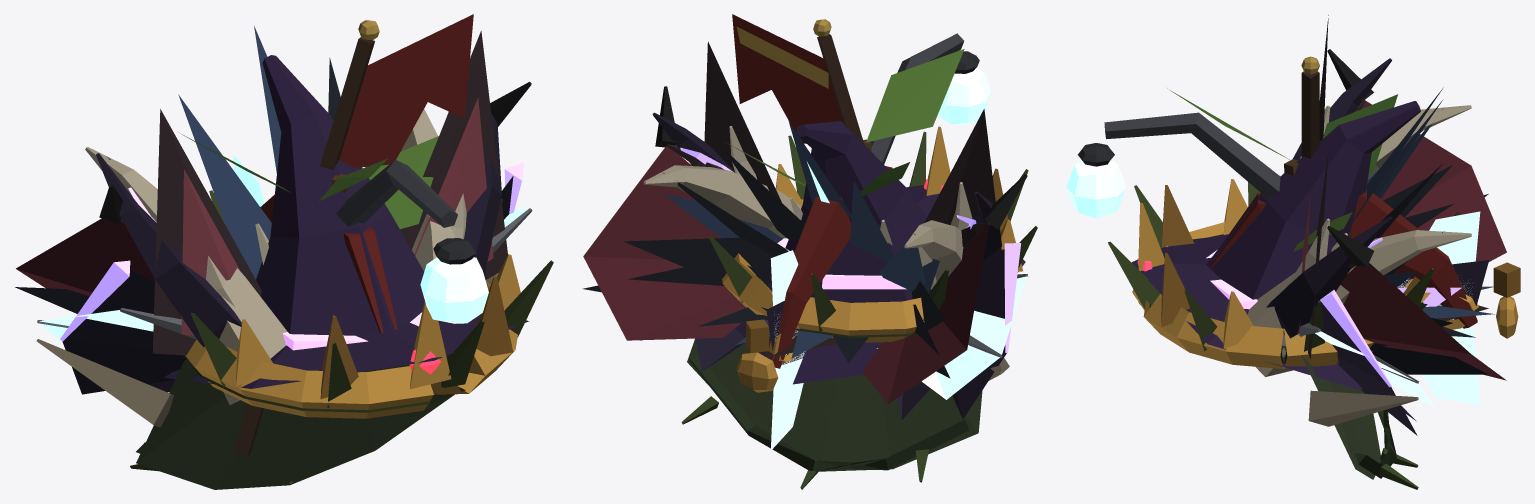
File: pet_traits.glb
The picture shows the model from 3 angles, left to right: view 1: azimuth 30°, elevation 25°; view 2: azimuth 150°, elevation 25°; view 3: azimuth 270°, elevation 25°; orthographic projection. The views are drawn at different scales.
Parts seen in each view (by area): view 1: hexling_head, acolyte_wings, bat_head, mimic_head, barrow_squire_wings, drake_head, shade_wings, shade_head, wisp_head, bat_wings, crow_head, acolyte_head (+5 smaller); view 2: bat_wings, acolyte_wings, hexling_head, barrow_squire_wings, crow_head, mimic_head, crow_wings, bat_head, drake_head, sapling_head, shade_wings, barrow_squire_head (+9 smaller); view 3: hexling_head, bat_wings, mimic_head, wisp_head, drake_head, shade_head, barrow_squire_head, acolyte_wings, crow_wings, shade_wings, wisp_tail, acolyte_head (+9 smaller).
Part boxes in pixels (left/top/right/bottom): hexling_head: left=164, top=55, right=529, bottom=388; acolyte_wings: left=130, top=353, right=453, bottom=489; bat_head: left=152, top=31, right=507, bottom=355; mimic_head: left=185, top=254, right=520, bottom=418; barrow_squire_wings: left=233, top=14, right=473, bottom=456; drake_head: left=36, top=109, right=498, bottom=427; shade_wings: left=60, top=162, right=524, bottom=394; shade_head: left=96, top=106, right=501, bottom=347; wisp_head: left=336, top=159, right=488, bottom=323; bat_wings: left=16, top=82, right=531, bottom=296; crow_head: left=107, top=26, right=401, bottom=279; acolyte_head: left=183, top=190, right=553, bottom=412; bat_wings: left=583, top=86, right=1027, bottom=403; acolyte_wings: left=681, top=338, right=982, bottom=489; hexling_head: left=735, top=121, right=1025, bottom=384; barrow_squire_wings: left=732, top=14, right=864, bottom=144; crow_head: left=663, top=121, right=925, bottom=292; mimic_head: left=722, top=126, right=1022, bottom=342; crow_wings: left=582, top=194, right=950, bottom=378; bat_head: left=704, top=41, right=1001, bottom=253; drake_head: left=643, top=165, right=1009, bottom=380; sapling_head: left=725, top=49, right=964, bottom=201; shade_wings: left=640, top=243, right=1021, bottom=419; barrow_squire_head: left=770, top=166, right=892, bottom=368; hexling_head: left=1131, top=101, right=1420, bottom=390; bat_wings: left=1327, top=49, right=1506, bottom=380; mimic_head: left=1132, top=179, right=1430, bottom=368; wisp_head: left=1066, top=112, right=1280, bottom=218; drake_head: left=1247, top=105, right=1471, bottom=426; shade_head: left=1266, top=58, right=1391, bottom=338; barrow_squire_head: left=1209, top=188, right=1477, bottom=328; acolyte_wings: left=1301, top=355, right=1418, bottom=489; crow_wings: left=1367, top=147, right=1488, bottom=374; shade_wings: left=1320, top=290, right=1417, bottom=435; wisp_tail: left=1398, top=211, right=1480, bottom=405; acolyte_head: left=1108, top=182, right=1460, bottom=363.
Size of the model in its own units: 1.05 by 1.05 by 1.02.
